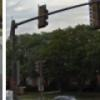traffic lights: (38, 5, 48, 28)
